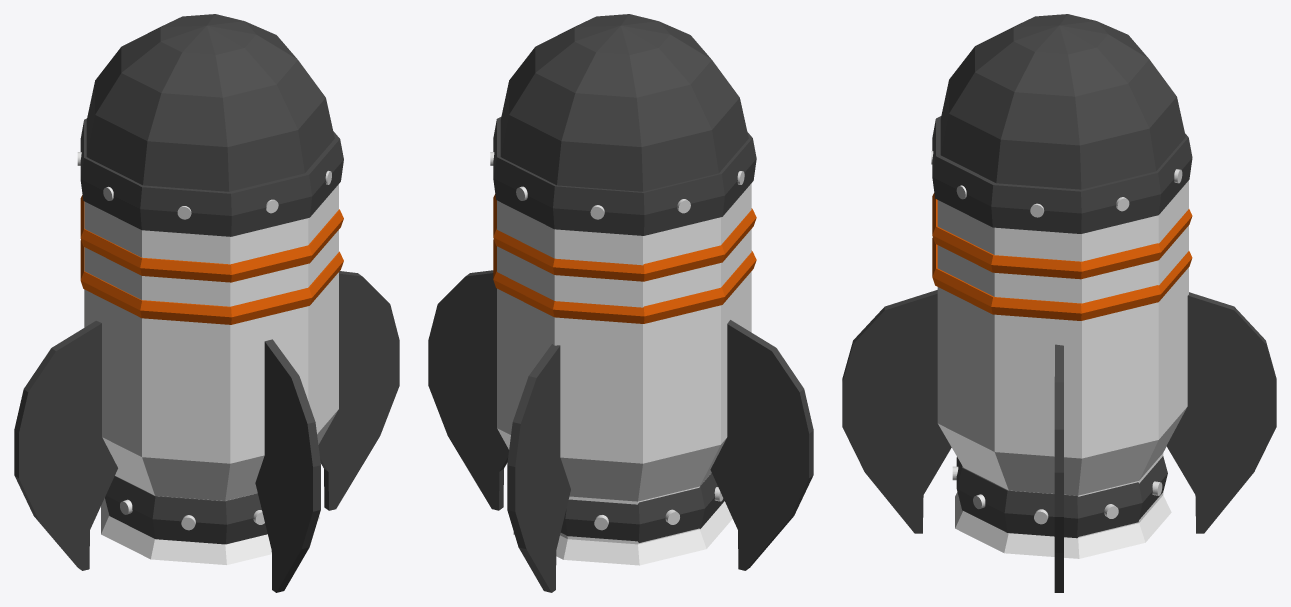
The model's file is Rocket Tail 2.fbx.
The picture shows the model from 3 angles, left to right: view 1: azimuth 30°, elevation 25°; view 2: azimuth 150°, elevation 25°; view 3: azimuth 270°, elevation 25°; orthographic projection.
Parts seen in each view (by area): view 1: Окружность.013; view 2: Окружность.013; view 3: Окружность.013.
Part boxes in pixels (bbox=[...]): Окружность.013: bbox=[14, 14, 399, 592]; Окружность.013: bbox=[428, 14, 813, 592]; Окружность.013: bbox=[842, 14, 1276, 592].
Bounding box in the file's own units: 472 × 607 × 472.
